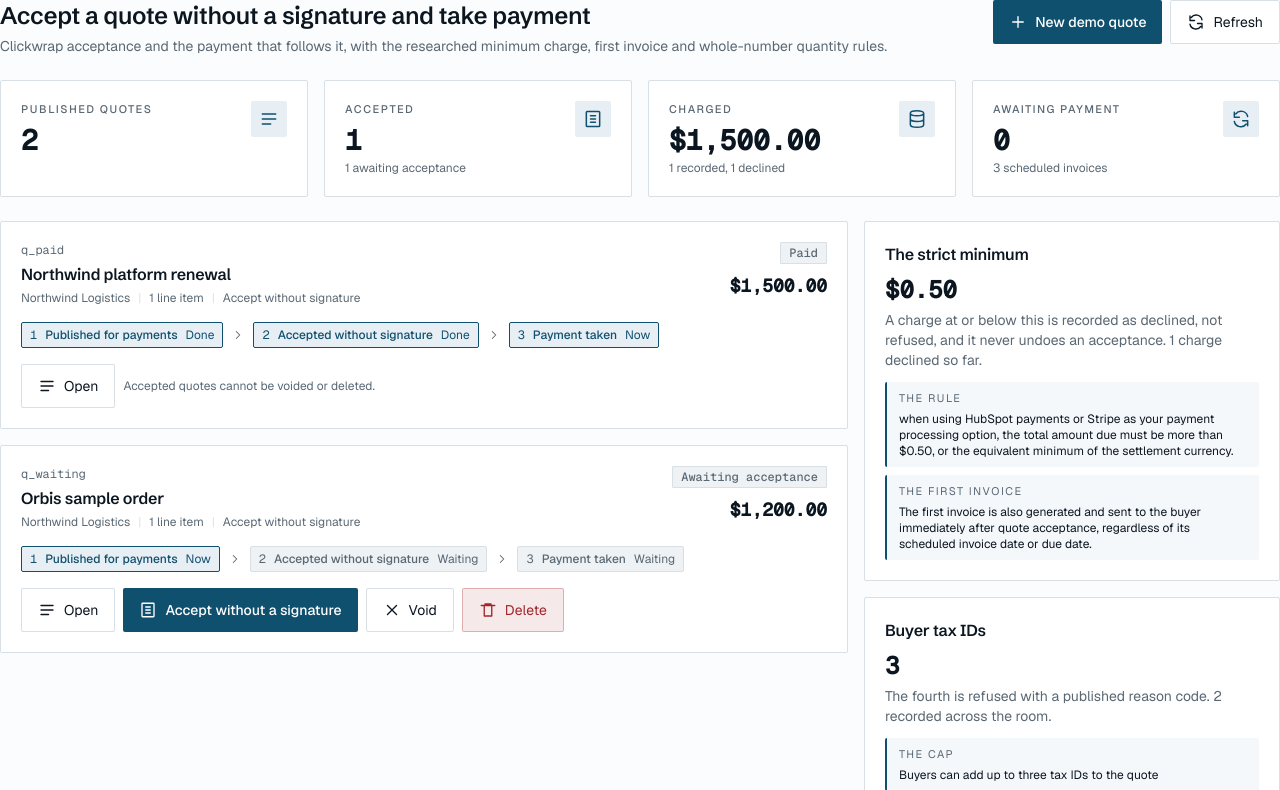
Test case: the page › accepts without a contact, because the research says one is not required
The image size is (1280, 790).
Expected: the heading "Orbis sample order" is shown, [21,488,164,508]
Click the button "Accept without a signature" at coordinates (240, 610), box [123,588,358,632]
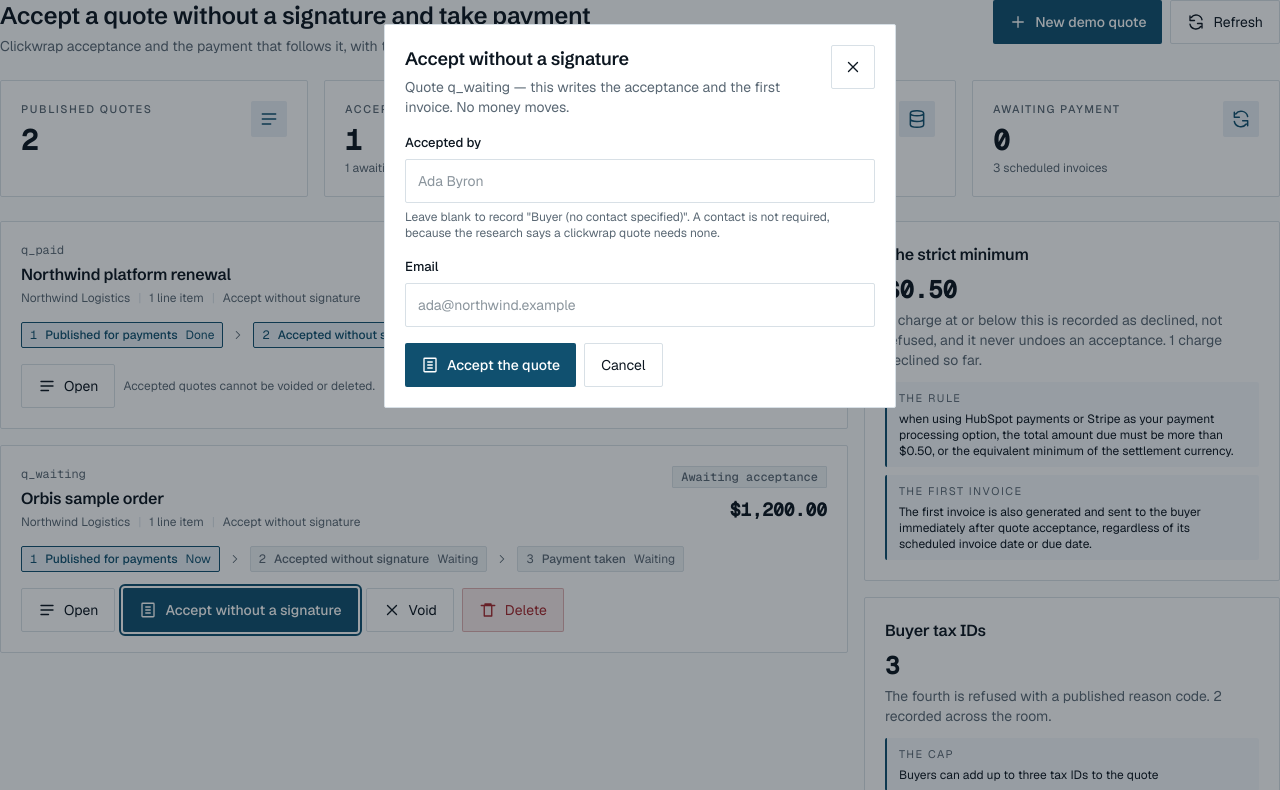
Now the text "Leave blank to record" is shown, box [405,209,829,241]
Click the button "Accept the quote" at coordinates (491, 365), box [405,343,576,387]
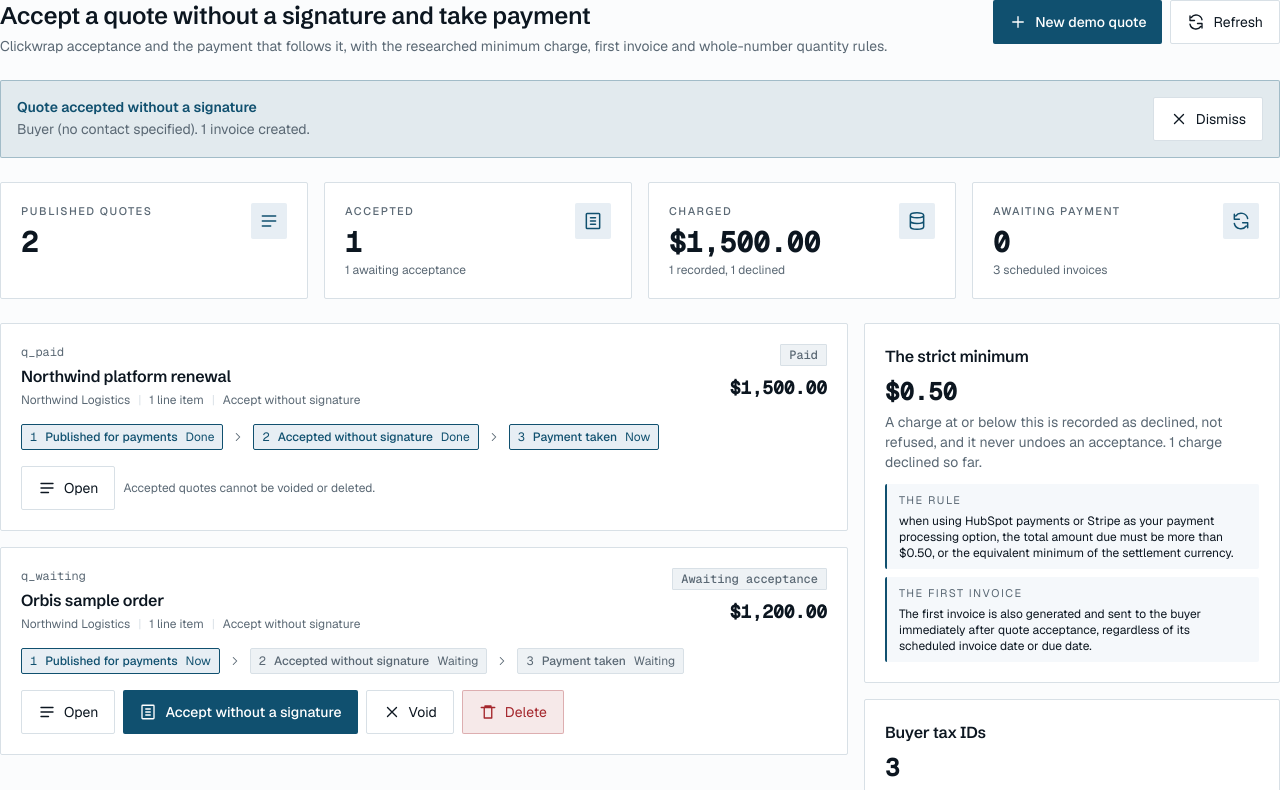
Now the text "Quote accepted without a signature" is shown, box [17,98,257,116]
Now the text "Buyer (no contact specified). 1 invoice created." is shown, box [17,119,310,139]
